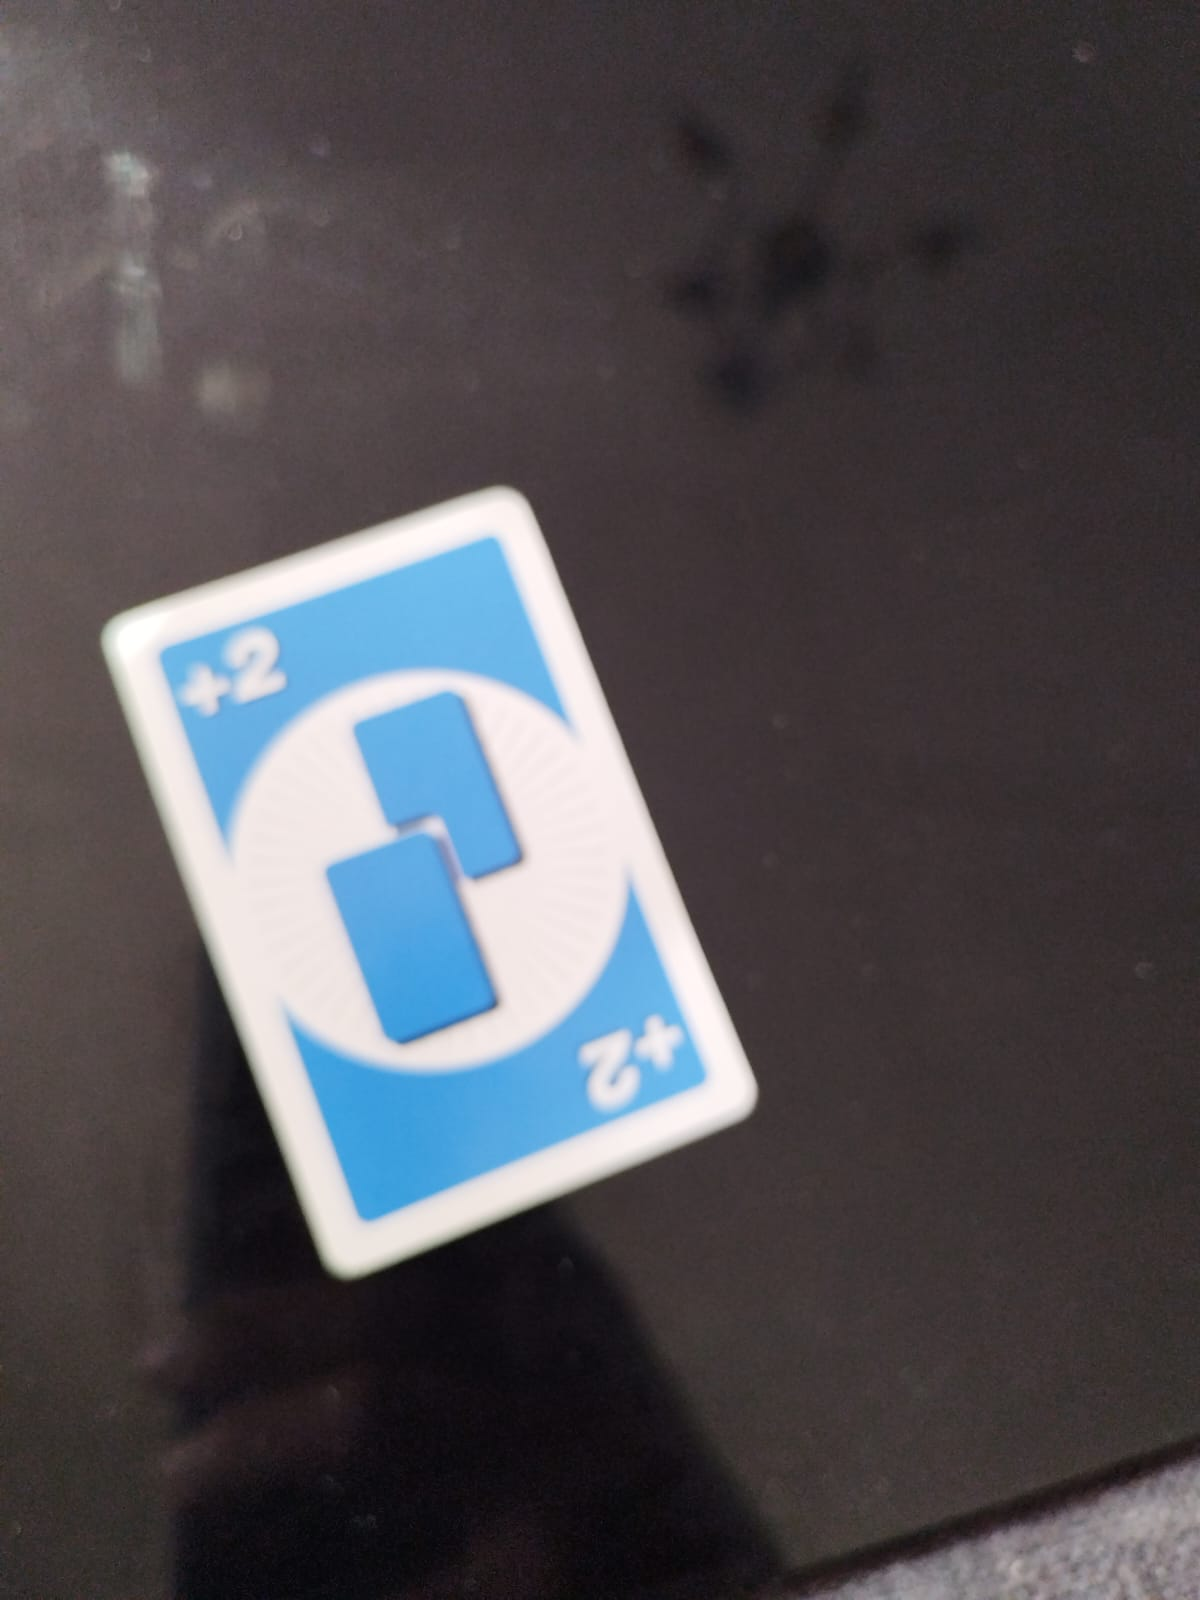reverse_yellow: (567, 1012, 688, 1115), (174, 625, 296, 723)
